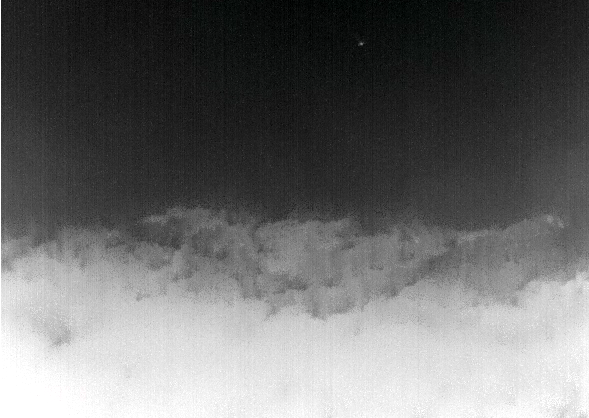dim target: (358, 40, 364, 47)
